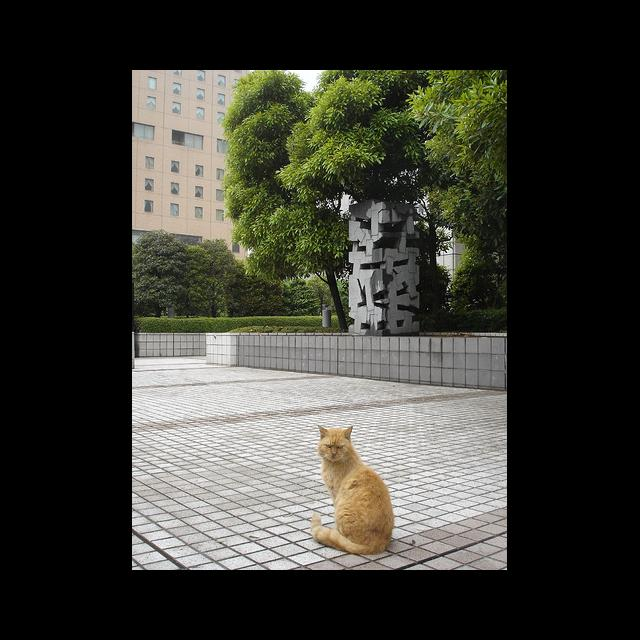animals: (318, 424, 352, 455)
